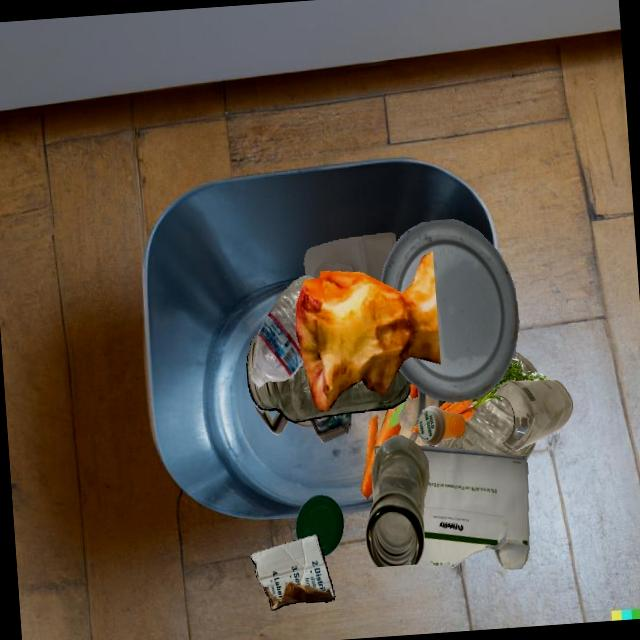biowaste: (296, 251, 440, 410), (438, 358, 548, 421), (360, 397, 406, 498)
cardboard: (250, 534, 335, 610), (309, 413, 352, 442), (254, 405, 288, 435)
glass: (246, 333, 410, 422), (365, 435, 429, 567), (434, 397, 535, 460), (493, 380, 572, 450), (294, 419, 313, 427), (317, 416, 329, 420)
paper: (417, 445, 529, 569)
plastic: (380, 219, 519, 402), (250, 275, 315, 388), (304, 232, 396, 282), (295, 494, 343, 556), (418, 405, 465, 445)
